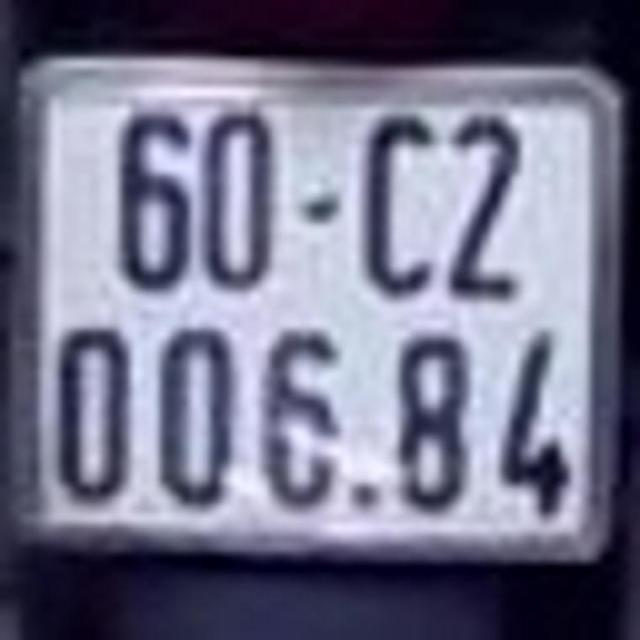0: (158, 317, 231, 506), (55, 320, 129, 491), (204, 111, 270, 291)
2: (451, 110, 521, 300)
4: (503, 328, 577, 514)
6: (261, 325, 339, 506), (115, 110, 192, 292)
8: (401, 334, 468, 508)
C: (365, 104, 436, 299)
